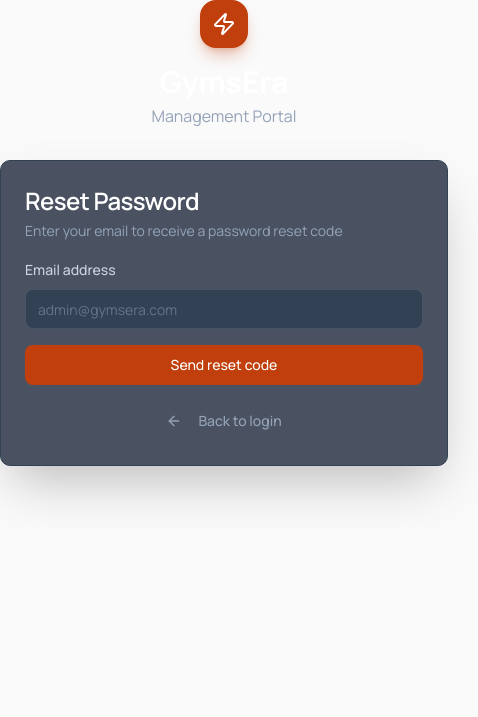
Test case: CMS forgot-password: request a code, then confirm it › after the code is sent it asks for the code and a new password
Type "host@example.com" into the field labelled "Email address" at [224, 309], box [25, 289, 423, 329]
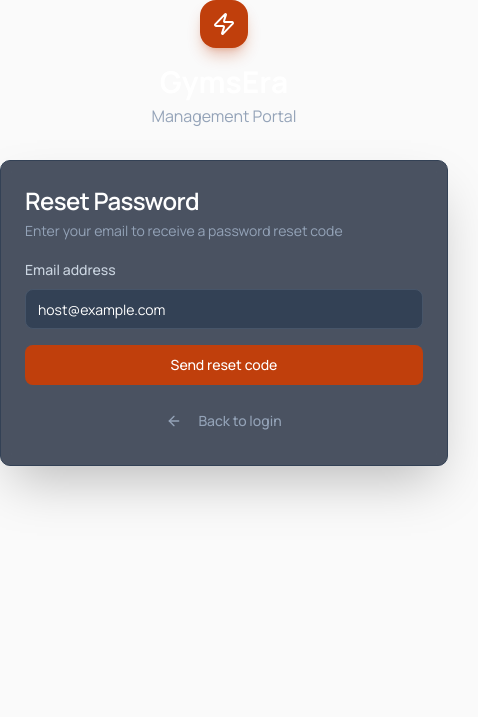
Click the button "Send reset code" at [224, 365], box [25, 345, 423, 385]
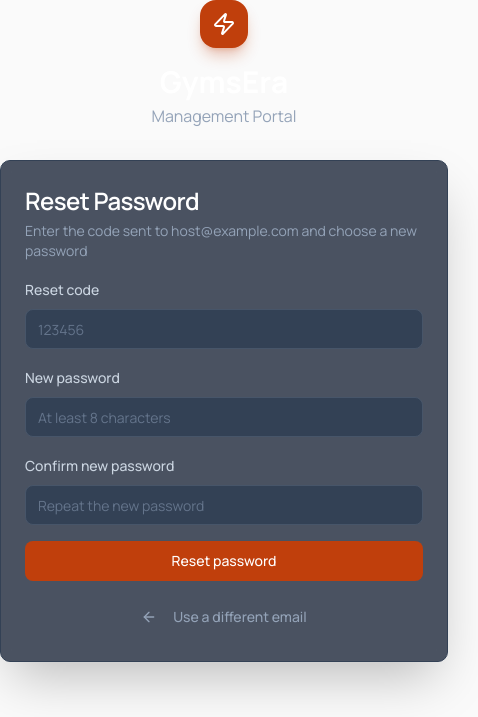
Expected: the field labelled "Reset code" is shown, [25, 309, 423, 349]
Expected: the password field labelled "New password" is shown, [25, 397, 423, 437]
Expected: the password field labelled "Confirm new password" is shown, [25, 485, 423, 525]
